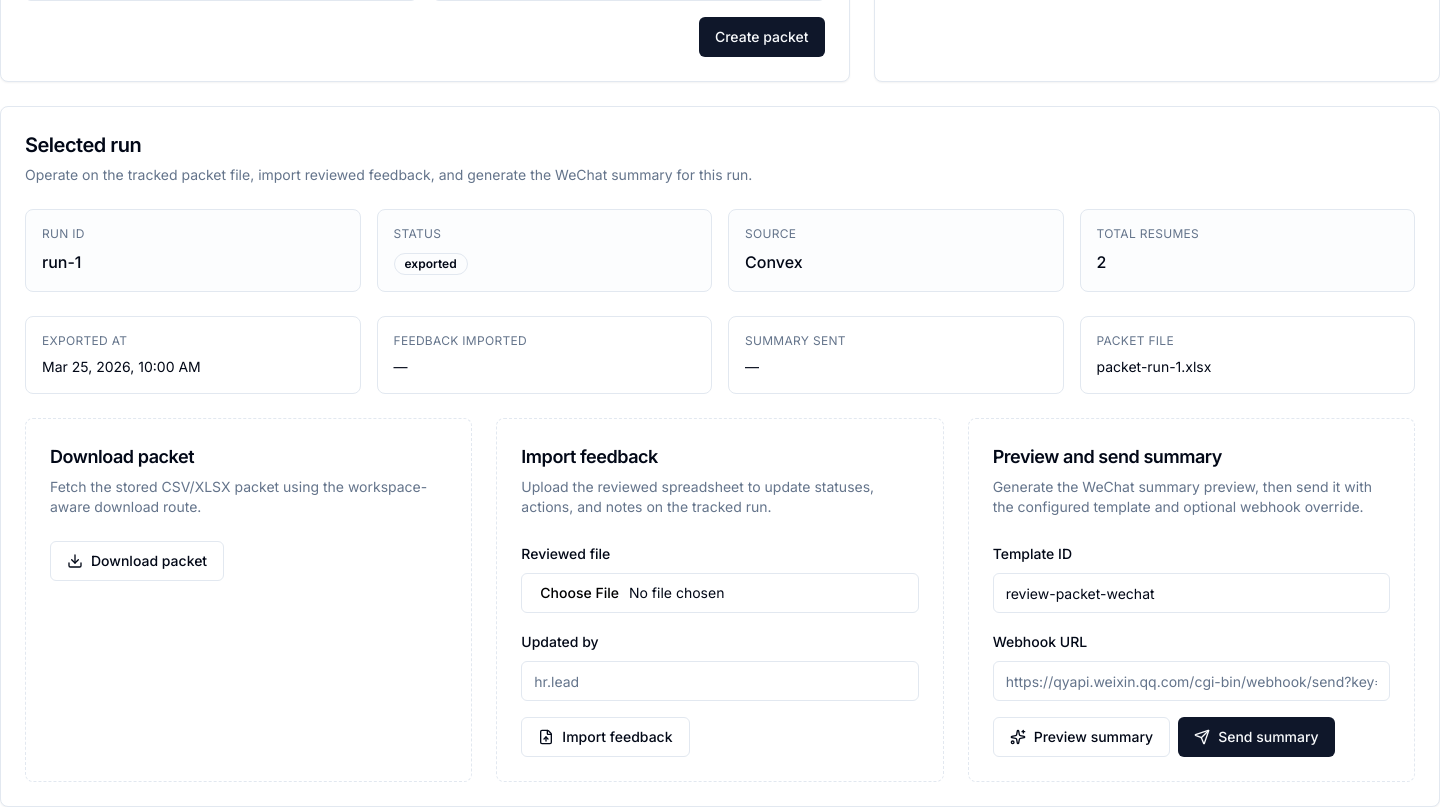
Scenario: ReviewPacketsPage › renders the summary preview for the selected run
This screenshot has width=1440, height=807.
(page scrolled)
What coordinates should you click on to do the following:
click the button "Preview summary"
I would click on:
 (1081, 737)
Its box is [993,717,1170,757].
(page scrolled)
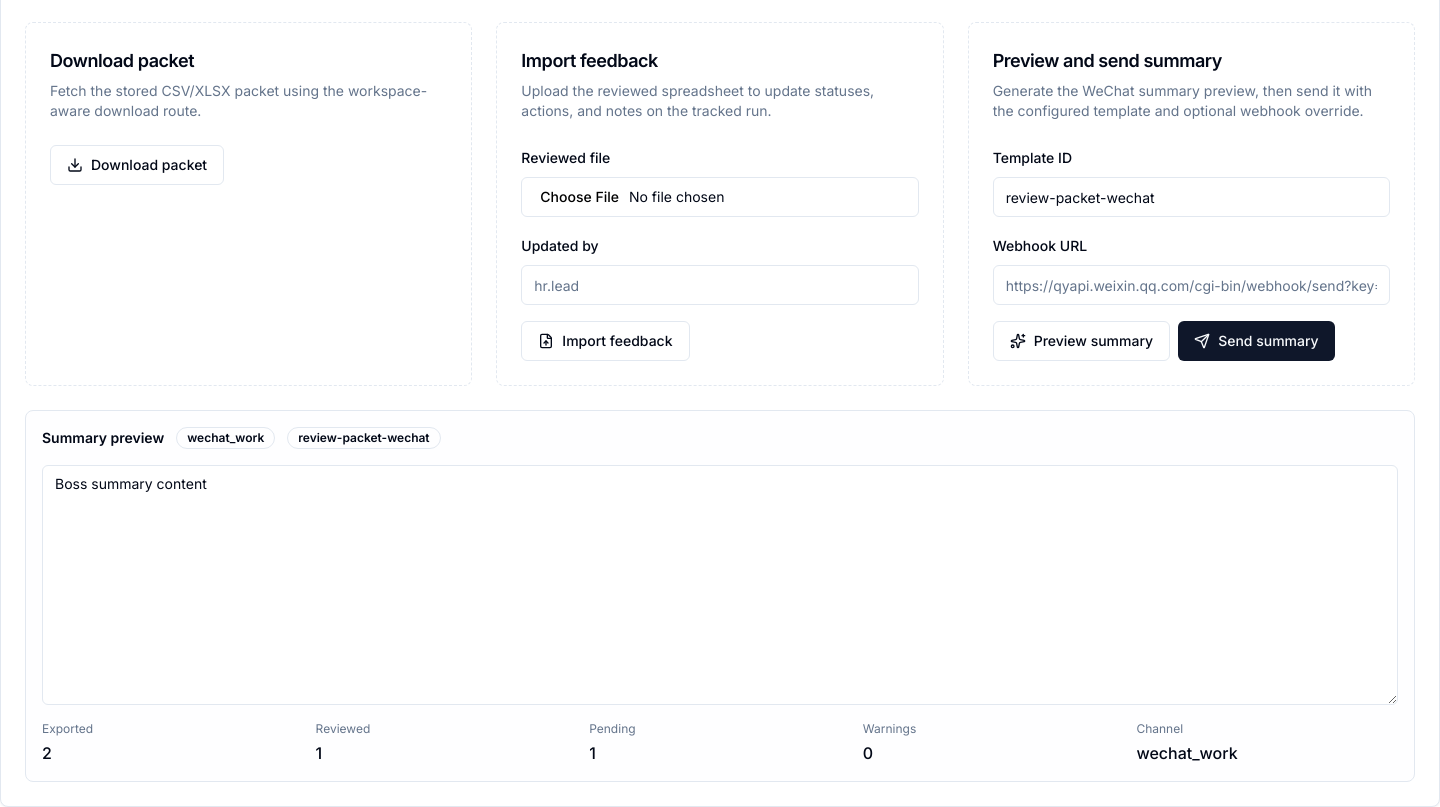
Check: the text box showing "Boss summary content" is shown, box [42,465,1398,705]
